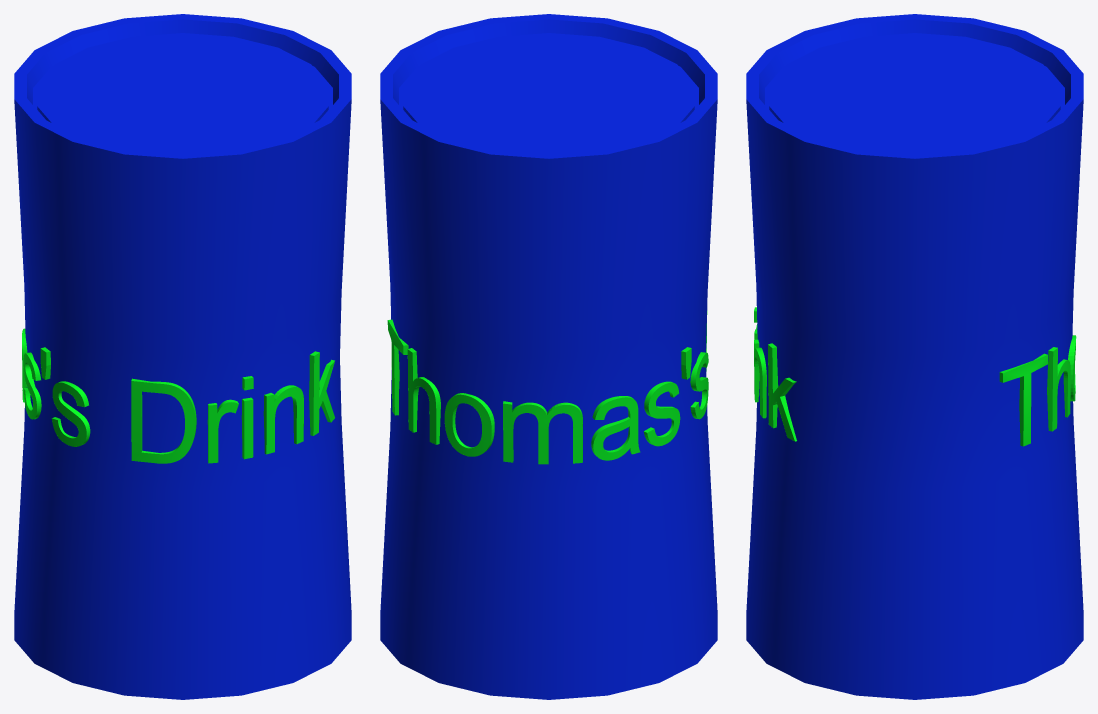
Rendered from sodaaa.fbx.
3 views of the same model, side by side, from view 1: azimuth 30°, elevation 25°; view 2: azimuth 150°, elevation 25°; view 3: azimuth 270°, elevation 25° (orthographic).
Visible parts, largest first — view 1: Cylinder046, TextPlus003; view 2: Cylinder046, TextPlus003; view 3: Cylinder046, TextPlus003.
Part boxes in pixels (x1=…): Cylinder046: x1=14, y1=14, x2=351, y2=699; TextPlus003: x1=22, y1=328, x2=334, y2=463; Cylinder046: x1=380, y1=14, x2=717, y2=699; TextPlus003: x1=387, y1=311, x2=708, y2=464; Cylinder046: x1=746, y1=14, x2=1083, y2=699; TextPlus003: x1=754, y1=307, x2=1076, y2=446.
Bounding box in the file's own units: 24.32 × 42.36 × 23.95.
